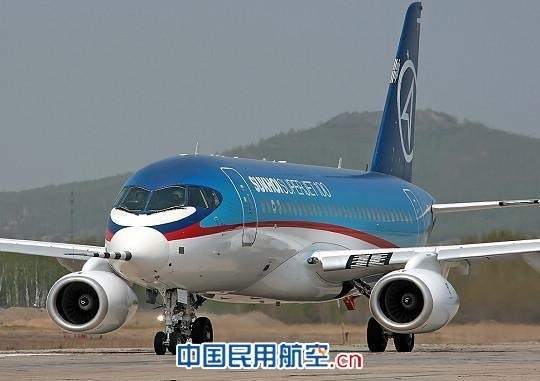airplane: (1, 2, 539, 351)
